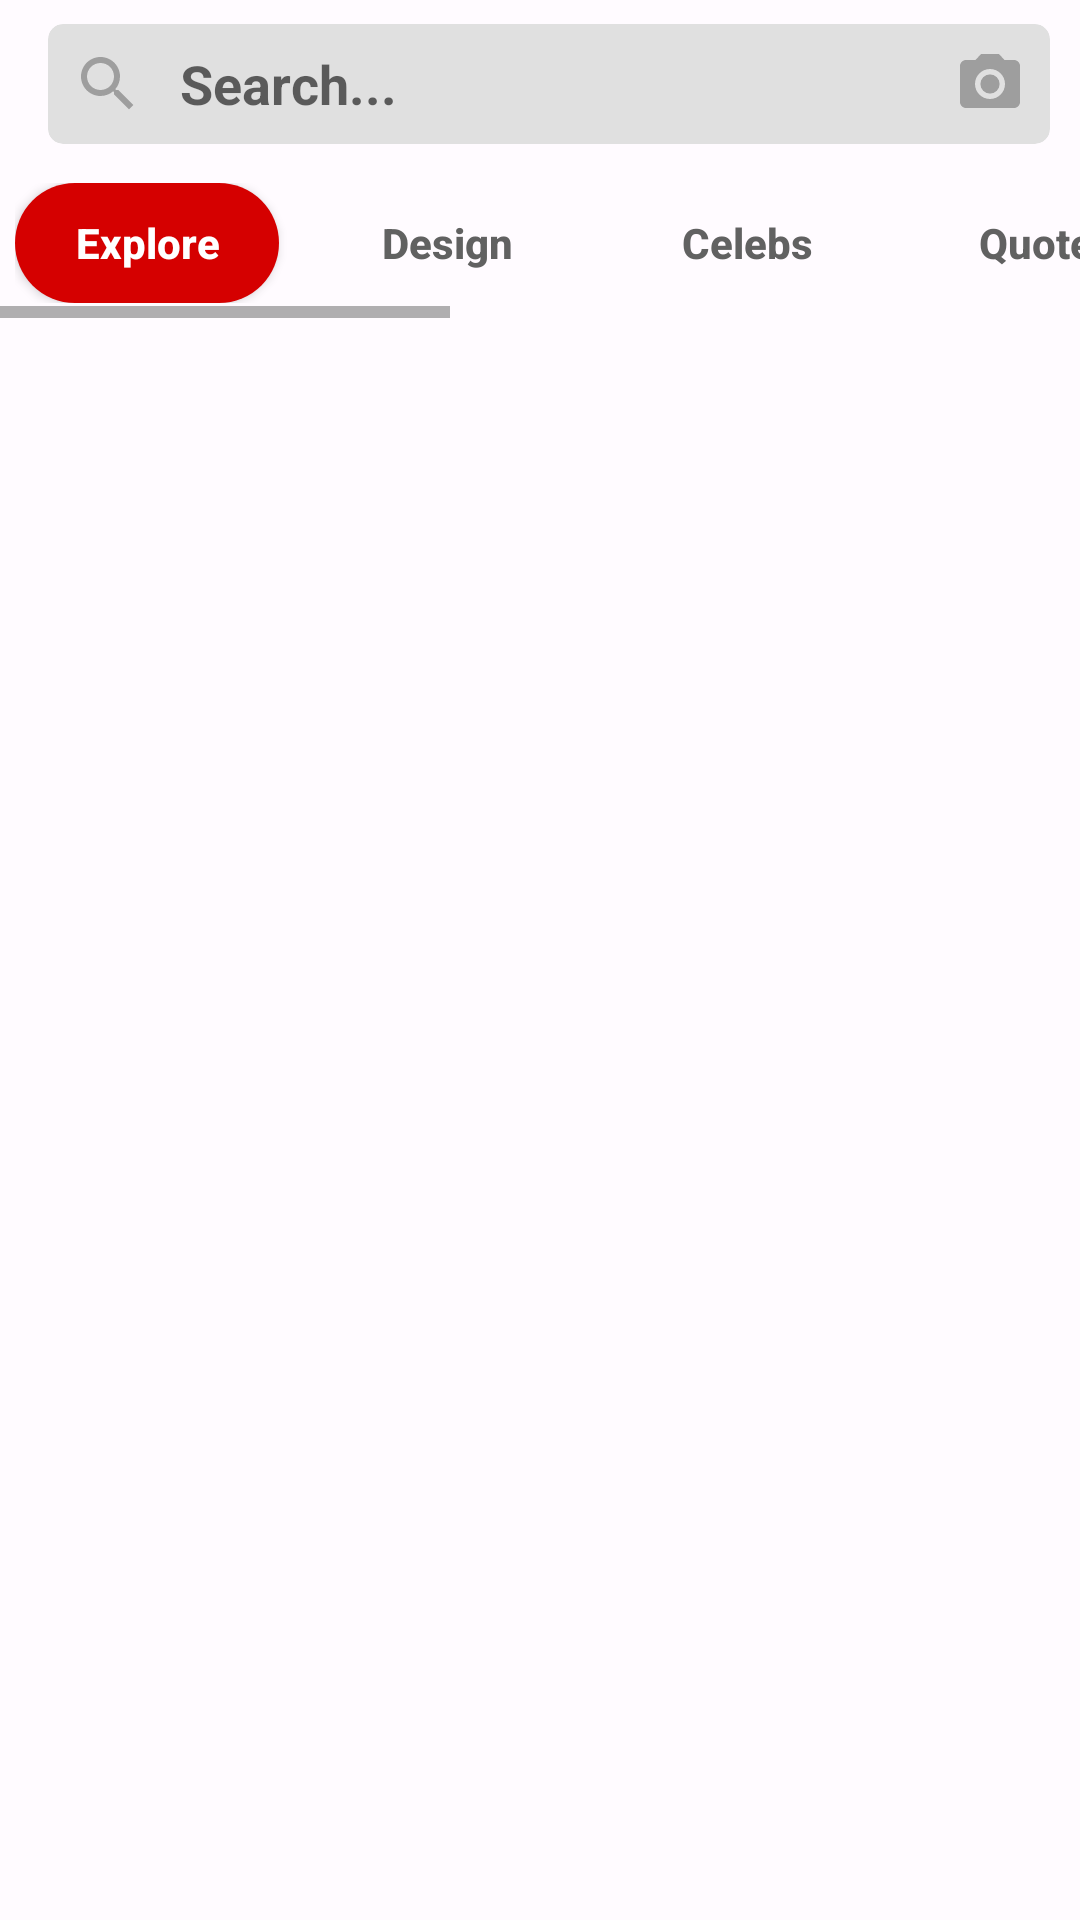

Icon click points for this 1080px×1920px phone screenshot, format [x,y]:
camera: [990,84]
